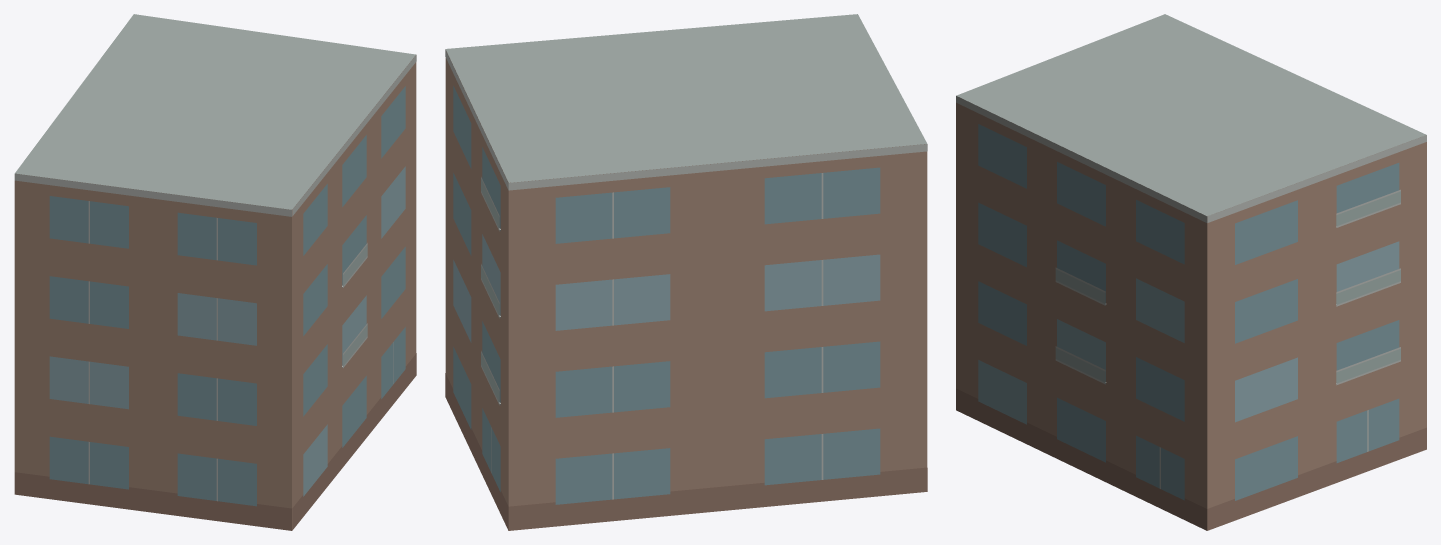
The model's file is survey-upis-32836344.glb.
The picture shows the model from 3 angles, left to right: view 1: azimuth 30°, elevation 25°; view 2: azimuth 150°, elevation 25°; view 3: azimuth 270°, elevation 25°; orthographic projection. The views are drawn at different scales.
Visible parts, largest first — view 1: survey-upis-32836344.tmp; view 2: survey-upis-32836344.tmp; view 3: survey-upis-32836344.tmp.
Part boxes in pixels (x1=…): survey-upis-32836344.tmp: x1=14, y1=14, x2=416, y2=530; survey-upis-32836344.tmp: x1=445, y1=14, x2=927, y2=530; survey-upis-32836344.tmp: x1=956, y1=14, x2=1426, y2=530.
Bounding box in the file's own units: 15.32 × 11.1 × 15.06.
